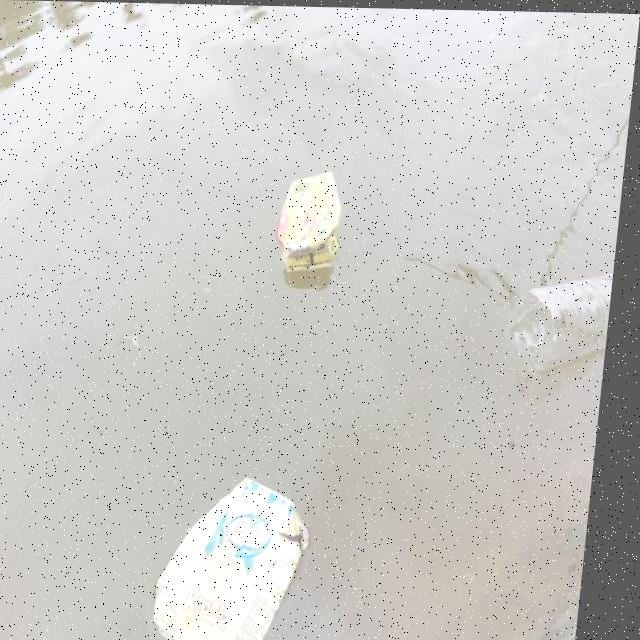paper: (105, 478, 352, 618), (270, 168, 362, 281)
waterbottle: (504, 264, 619, 392)
